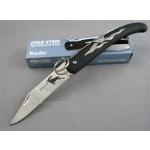Pisau: (0, 19, 136, 131)
